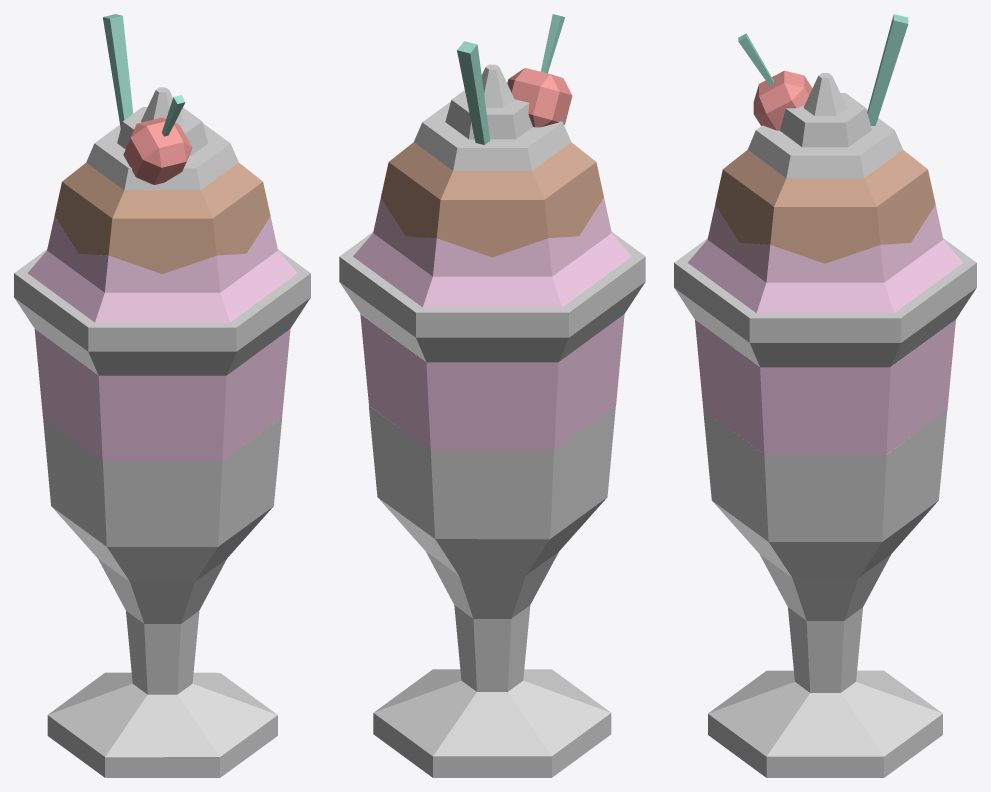
Rendered from sundae.glb.
3 renders of one model, left to right at view 1: azimuth 30°, elevation 25°; view 2: azimuth 150°, elevation 25°; view 3: azimuth 270°, elevation 25°, orthographic. The views are drawn at different scales.
Parts seen in each view (by area): view 1: sundae, cherry, straw; view 2: sundae, cherry, straw; view 3: sundae, cherry, straw.
Boxes of the visible parts, left/top/right/bottom form: sundae: left=14, top=87, right=310, bottom=777; cherry: left=123, top=95, right=192, bottom=184; straw: left=103, top=14, right=133, bottom=128; sundae: left=339, top=64, right=645, bottom=777; cherry: left=507, top=14, right=572, bottom=127; straw: left=457, top=41, right=490, bottom=144; sundae: left=674, top=73, right=976, bottom=777; cherry: left=738, top=33, right=812, bottom=130; straw: left=867, top=14, right=908, bottom=125.
Bounding box in the file's own units: 0.2231 × 0.6679 × 0.2576.
